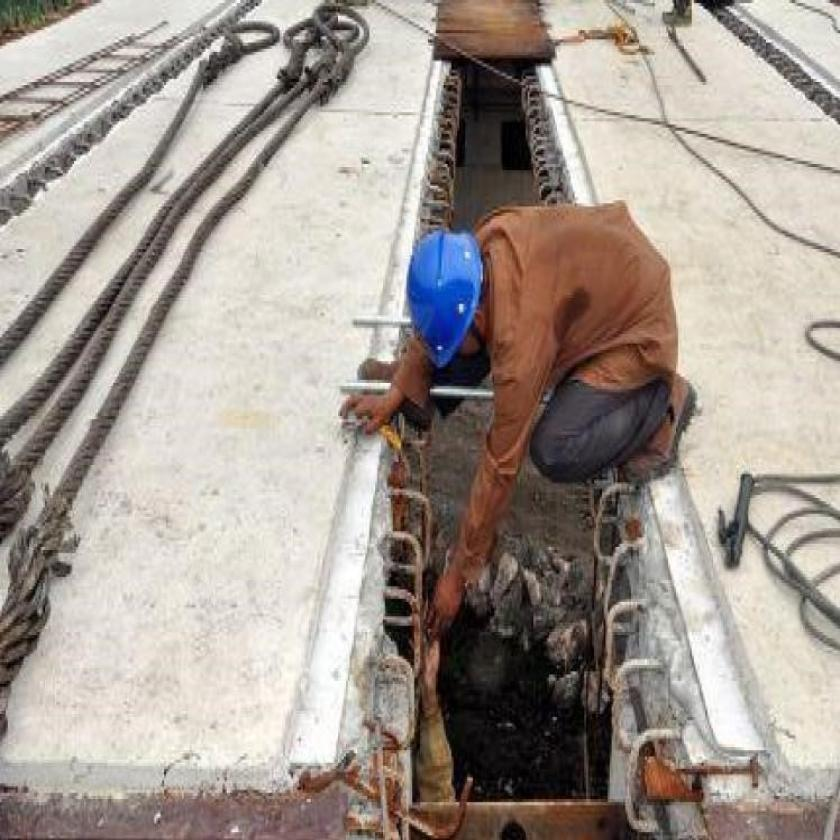Con_casco: (401, 232, 491, 386)
